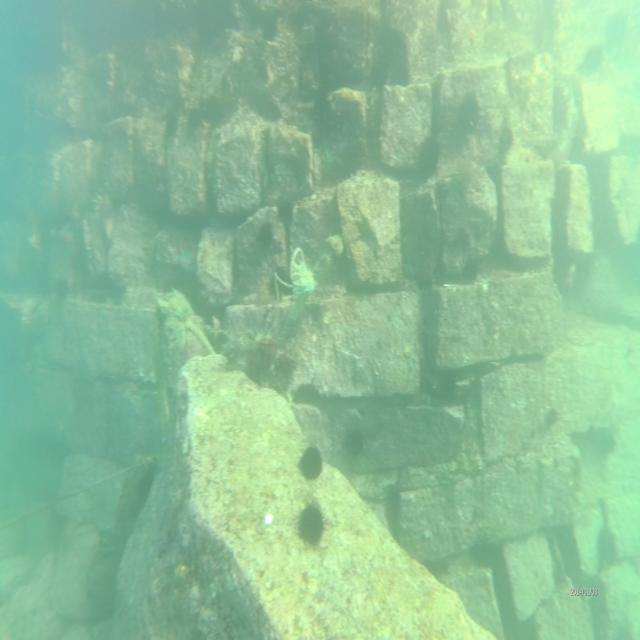echinus: (295, 502, 328, 550), (268, 354, 298, 396), (245, 334, 270, 384), (456, 92, 481, 140), (298, 440, 324, 484), (596, 524, 620, 569), (418, 135, 439, 181), (583, 43, 604, 78), (256, 218, 274, 252), (52, 272, 69, 308), (496, 126, 513, 158), (348, 424, 363, 457), (544, 404, 558, 428)
